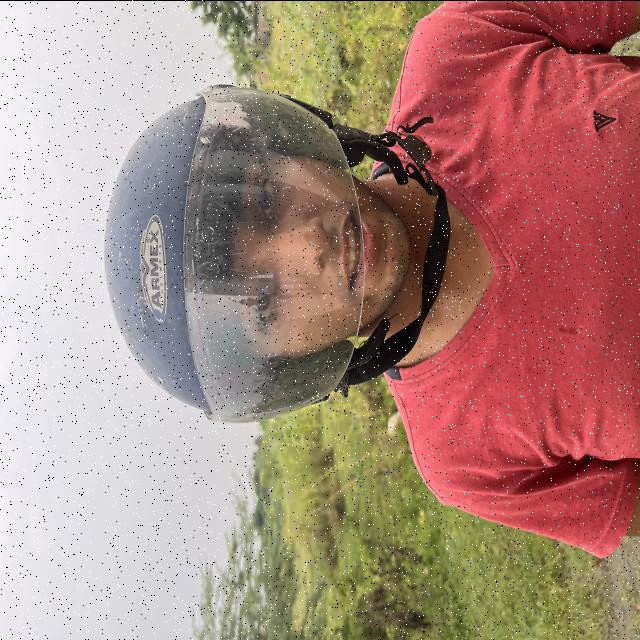Helmet: (105, 87, 364, 422)
